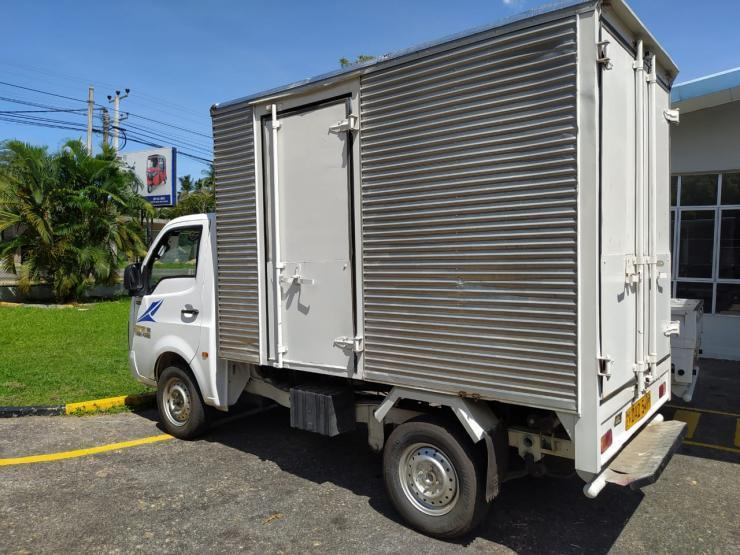truck: (124, 1, 687, 540)
